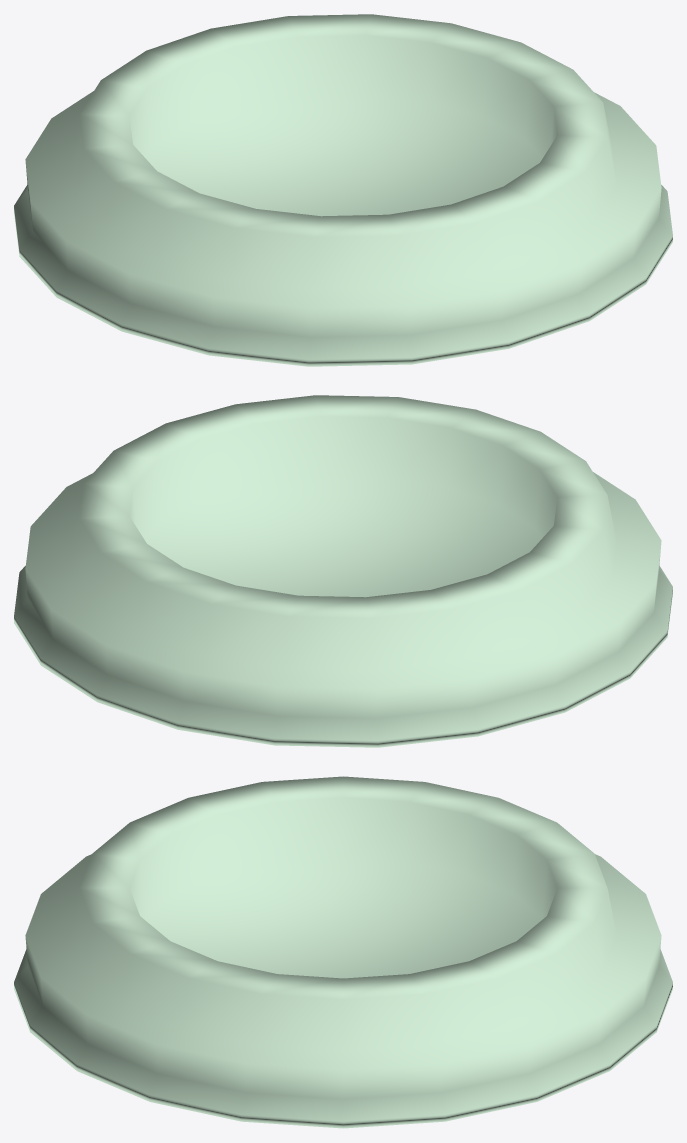
Rendered from cream_container_lid.fbx.
3 renders of one model, top to bottom at view 1: azimuth 30°, elevation 25°; view 2: azimuth 150°, elevation 25°; view 3: azimuth 270°, elevation 25°, orthographic.
Parts seen in each view (by area): view 1: cream_container_lid; view 2: cream_container_lid; view 3: cream_container_lid.
Part boxes in pixels (x1,y1,x2,y2): cream_container_lid: (14, 14, 672, 366); cream_container_lid: (14, 395, 672, 747); cream_container_lid: (14, 776, 672, 1128).
Bounding box in the file's own units: 6.93 × 1.17 × 6.93.
